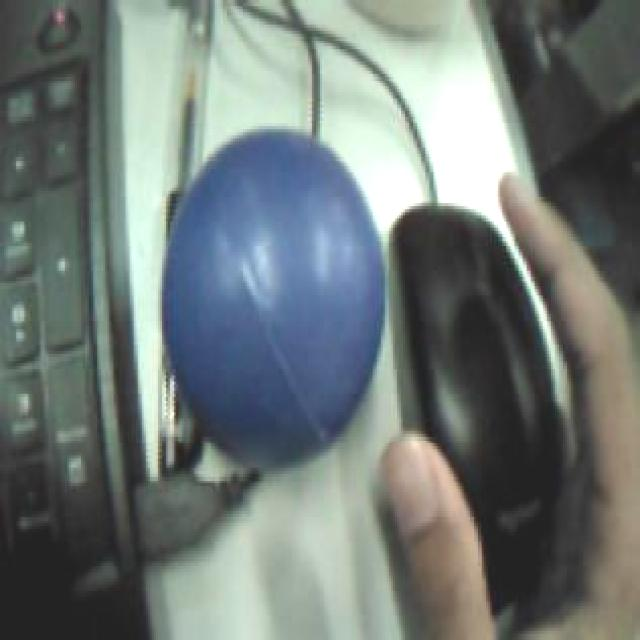BallPurple: (160, 127, 384, 470)
